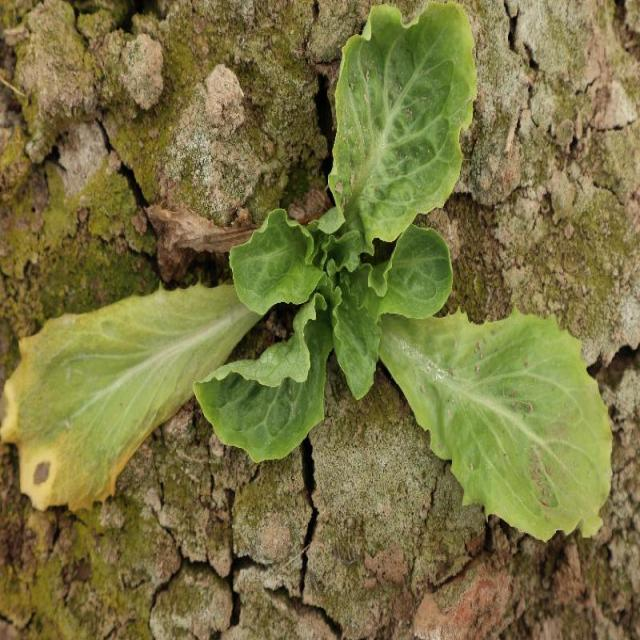crop: (191, 5, 614, 540)
